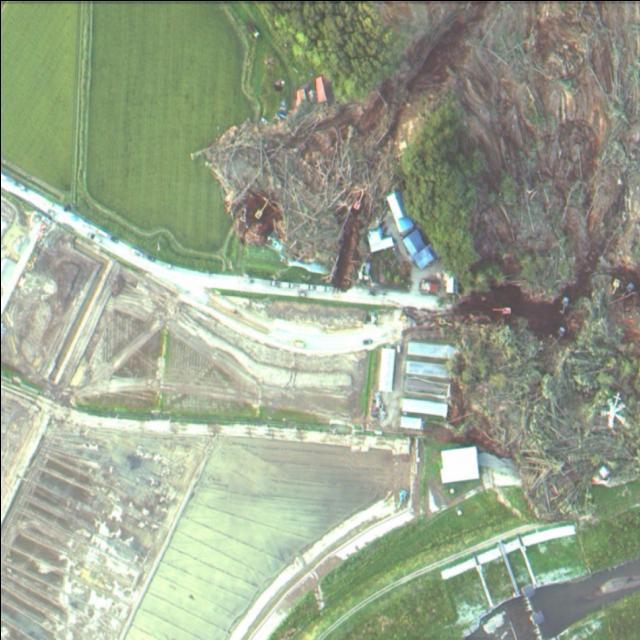landslide: (199, 2, 640, 513)
